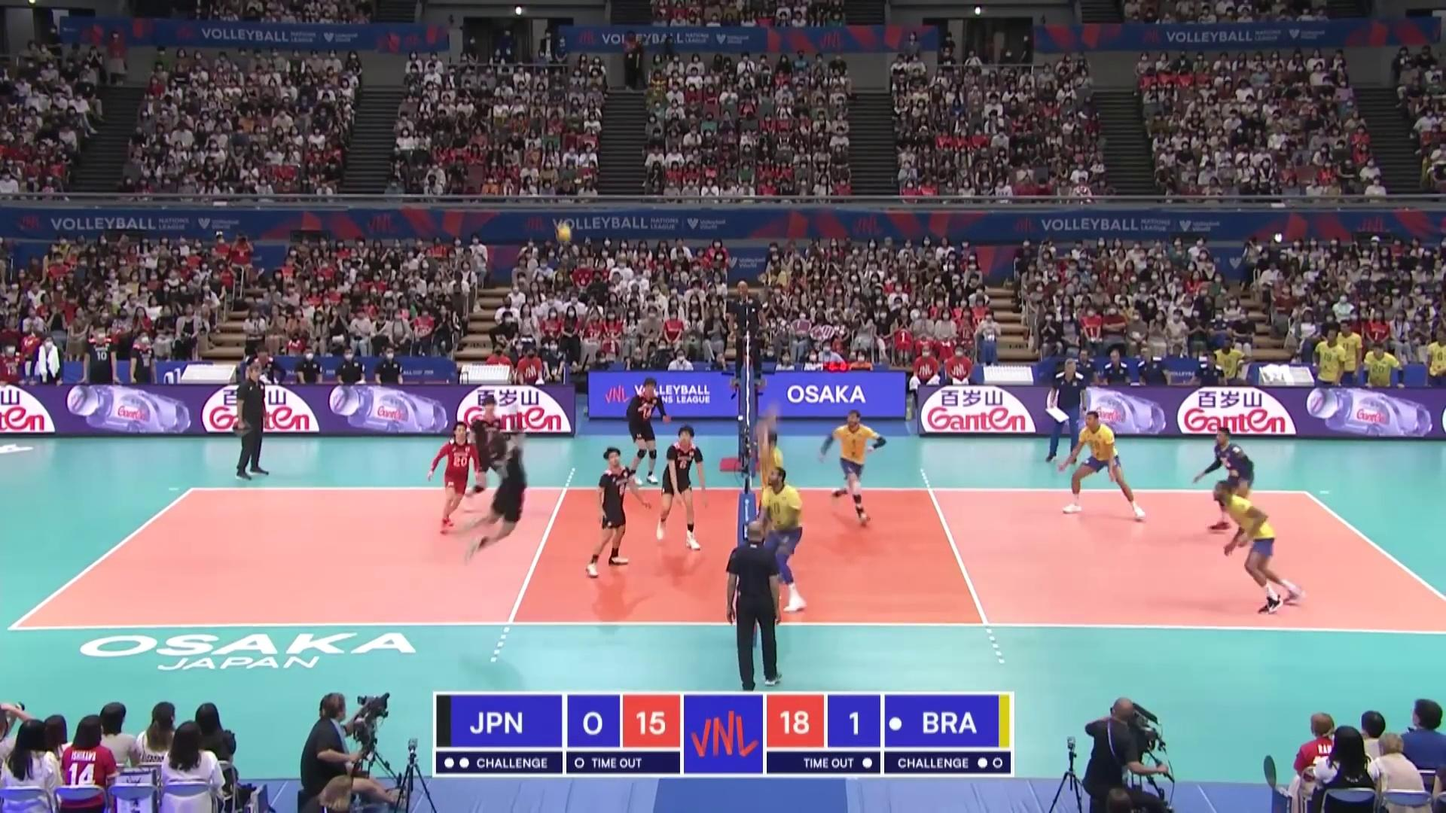player: (1215, 482, 1305, 614), (457, 417, 530, 562), (1063, 411, 1146, 522), (586, 447, 642, 581), (824, 409, 885, 526), (1195, 426, 1259, 533), (760, 466, 805, 614), (658, 425, 710, 552), (462, 396, 512, 523), (432, 422, 480, 536), (757, 427, 795, 571), (625, 377, 665, 486)
refree: (729, 521, 781, 688), (732, 281, 765, 385)
